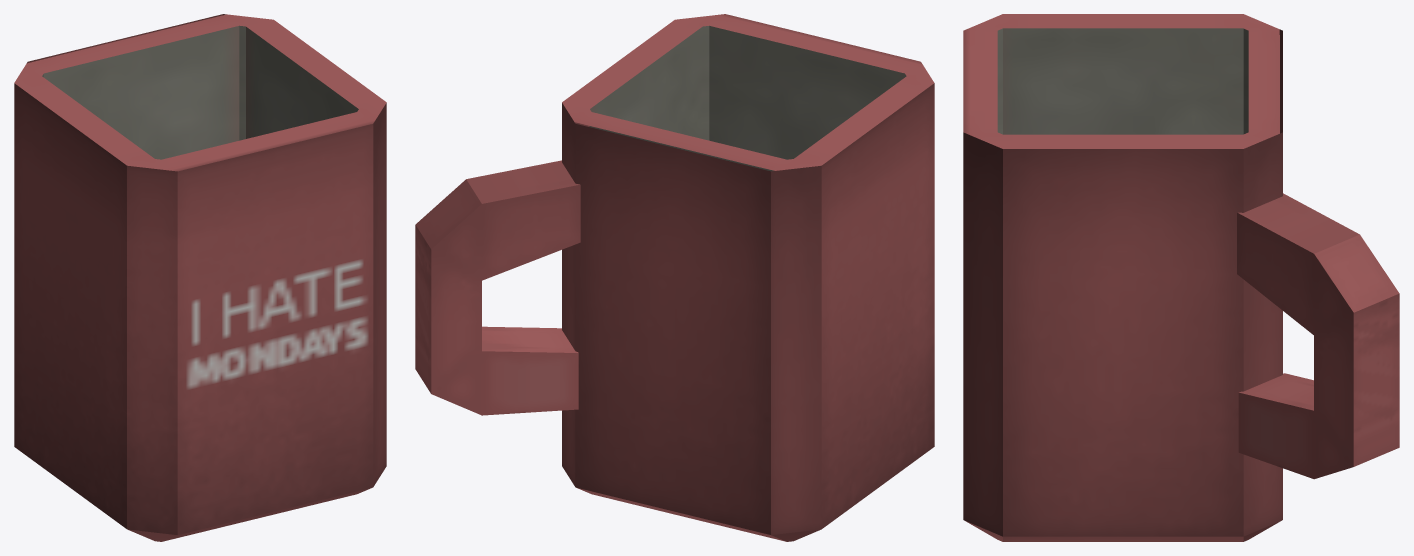
The model's file is MugRed.fbx.
3 renders of one model, left to right at view 1: azimuth 30°, elevation 25°; view 2: azimuth 150°, elevation 25°; view 3: azimuth 270°, elevation 25°, orthographic. The views are drawn at different scales.
Parts seen in each view (by area): view 1: MugRed; view 2: MugRed; view 3: MugRed.
Part boxes in pixels (x1,y1,x2,y2): MugRed: (14,14,386,541); MugRed: (415,14,934,541); MugRed: (963,14,1399,541).
Bounding box in the file's own units: 0.0881 × 0.0908 × 0.0881.
Materials: 1 (1 with a texture image).
